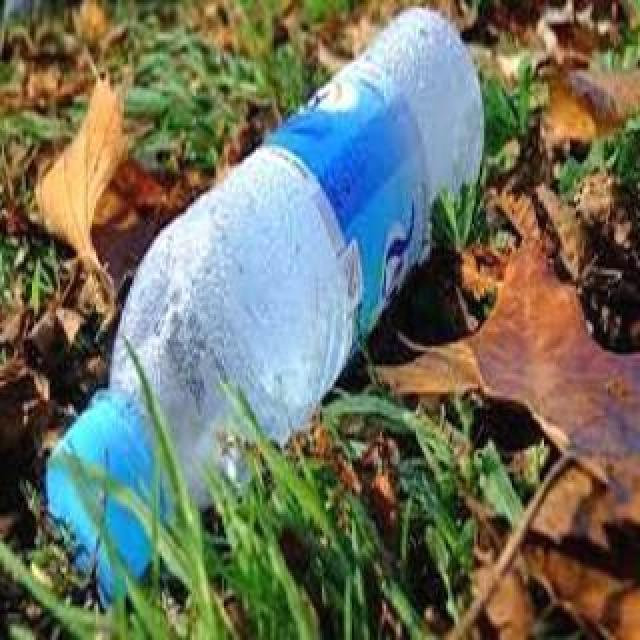Pet_Bottle: (41, 1, 483, 607)
